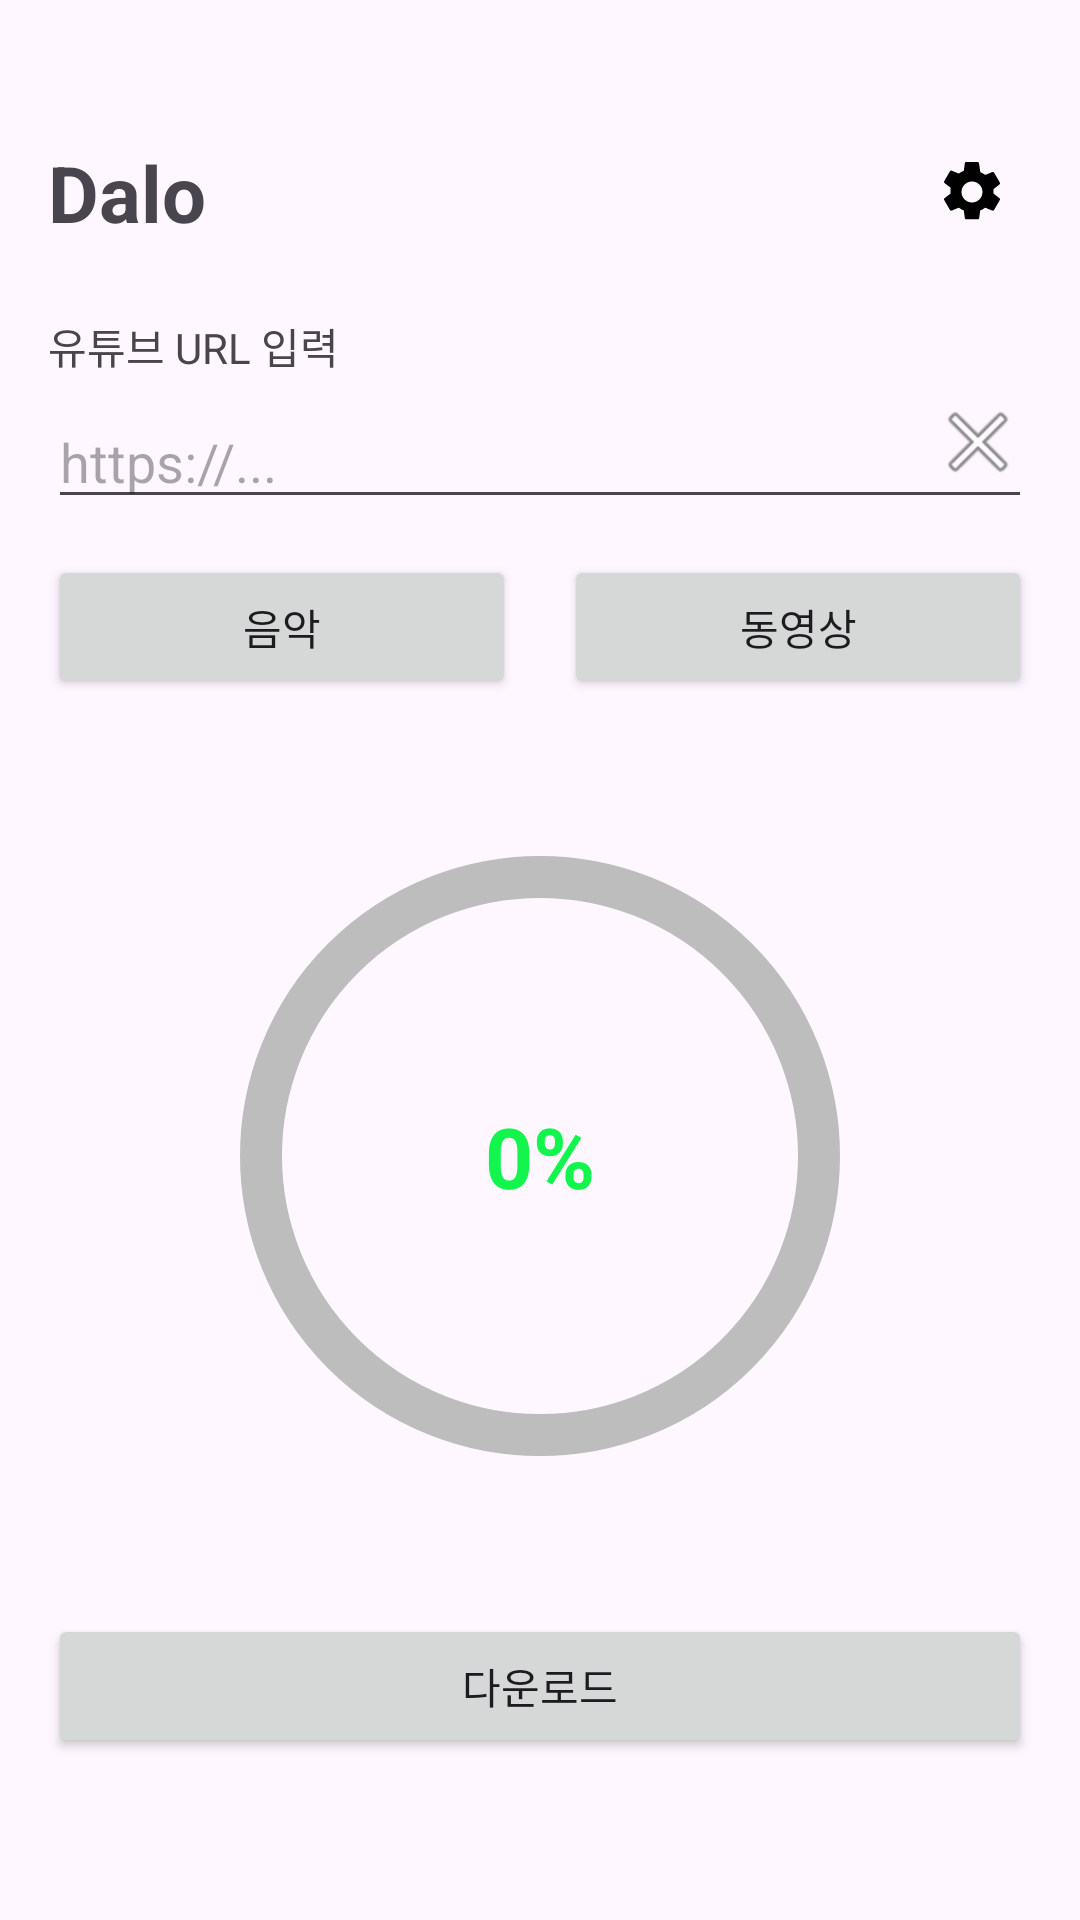

Locate icon controls on the screen. Image size 1080*1920, boxes as (x1, y1, x2, y2).
설정: (944, 162, 1000, 220)
입력 삭제: (948, 412, 1008, 472)
